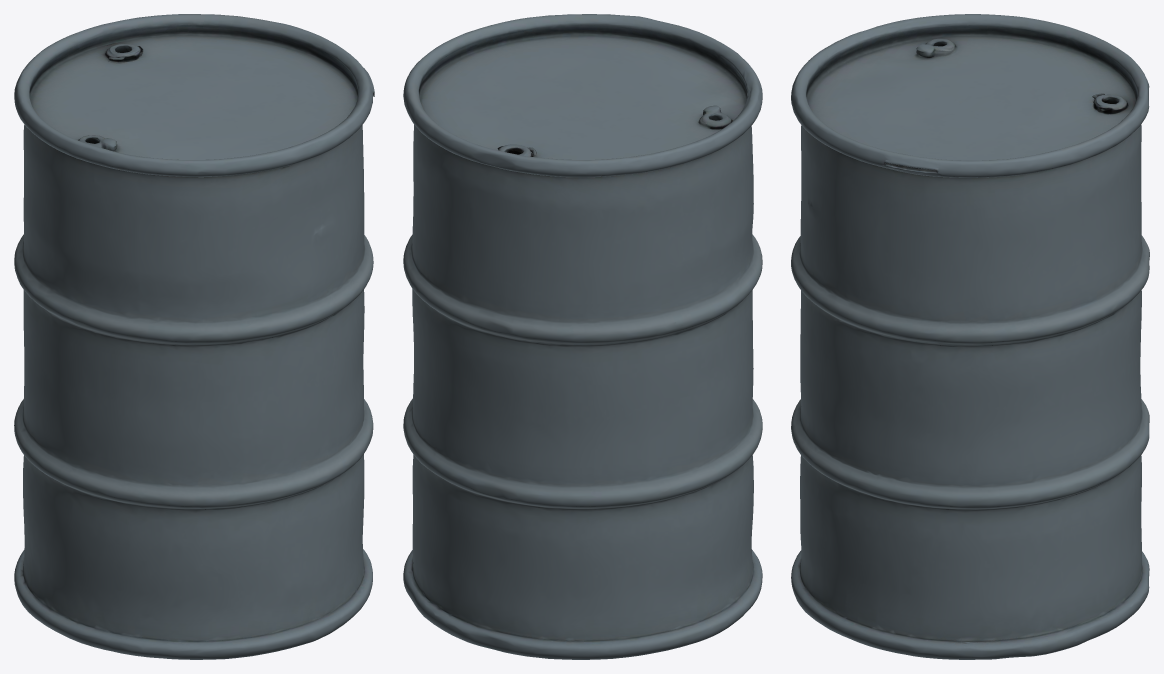
The model's file is barrel-industrial.glb.
3 renders of one model, left to right at view 1: azimuth 30°, elevation 25°; view 2: azimuth 150°, elevation 25°; view 3: azimuth 270°, elevation 25°, orthographic.
Parts seen in each view (by area): view 1: tripo_node_b0311118-fe4b-4440-b000-926e50904ecc; view 2: tripo_node_b0311118-fe4b-4440-b000-926e50904ecc; view 3: tripo_node_b0311118-fe4b-4440-b000-926e50904ecc.
Part boxes in pixels (box(x1,y1,x2,y2)): tripo_node_b0311118-fe4b-4440-b000-926e50904ecc: box(14, 14, 374, 659); tripo_node_b0311118-fe4b-4440-b000-926e50904ecc: box(403, 14, 762, 659); tripo_node_b0311118-fe4b-4440-b000-926e50904ecc: box(791, 14, 1149, 659).
Bounding box in the file's own units: 0.4232 × 0.65 × 0.4224.
1 material, 1 textured.
